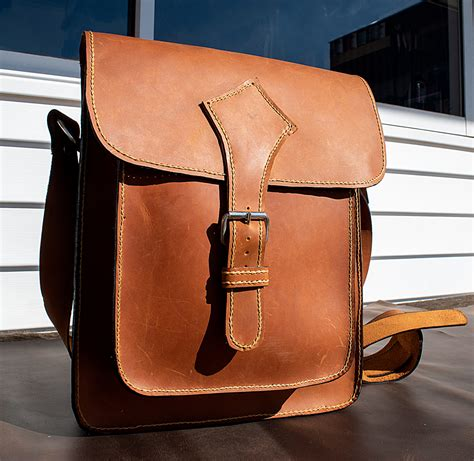cuero: (40, 27, 387, 436)
